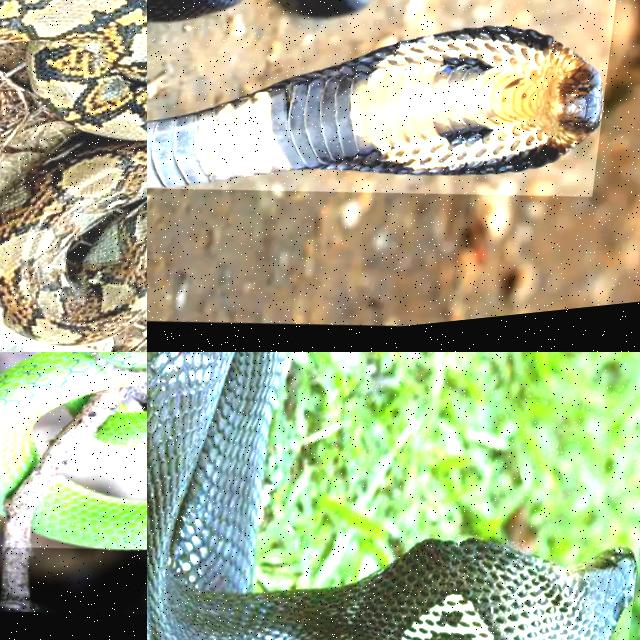Malayopython reticulatus: (0, 0, 146, 344)
Naja kaouthia: (147, 352, 635, 639)
Ophiophagus hannah: (147, 26, 602, 188)
Trimeresurus macrops: (0, 352, 146, 512)
snake: (147, 352, 635, 639), (147, 26, 602, 188), (0, 0, 146, 344), (0, 352, 146, 512)
